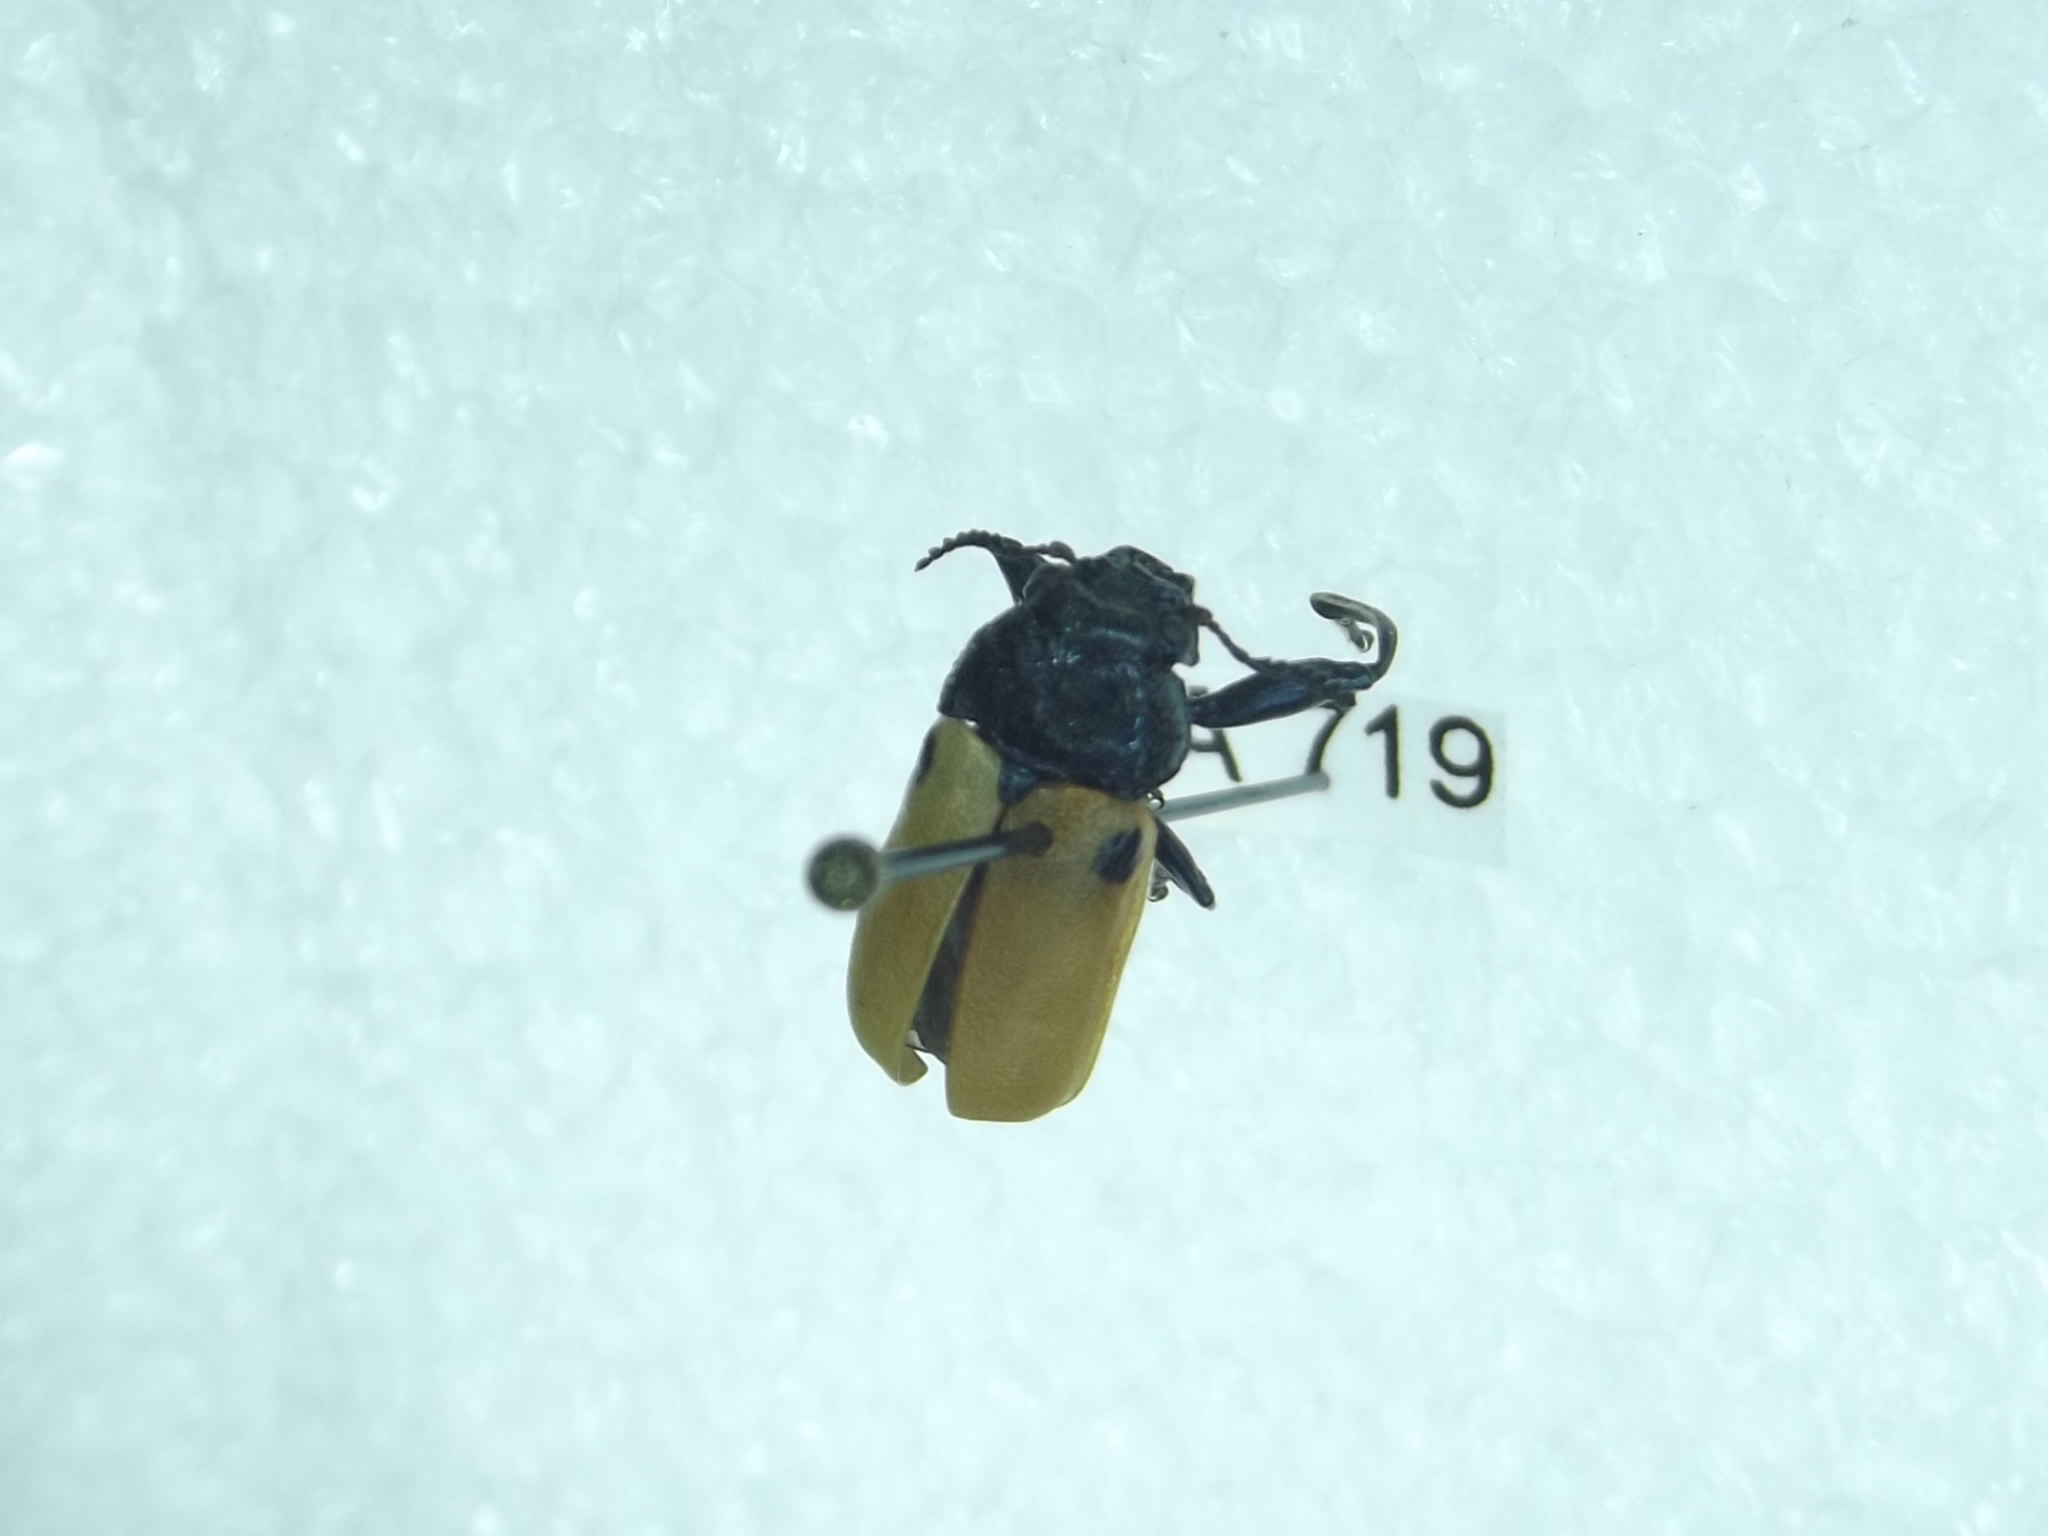Labidostomis_propinqua: (829, 508, 1414, 1144)
